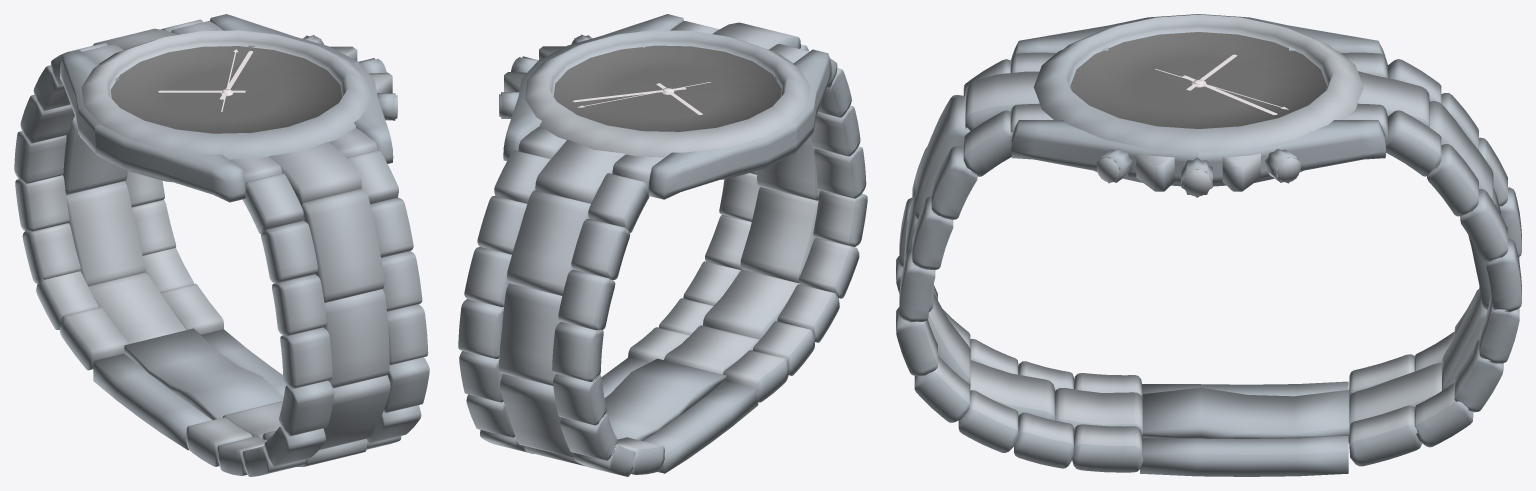
Rendered from watch3.fbx.
The picture shows the model from 3 angles, left to right: view 1: azimuth 30°, elevation 25°; view 2: azimuth 150°, elevation 25°; view 3: azimuth 270°, elevation 25°; orthographic projection. The views are drawn at different scales.
Parts seen in each view (by area): view 1: watch3; view 2: watch3; view 3: watch3.
Boxes of the visible parts, bbox=[...] form: watch3: bbox=[14, 14, 429, 476]; watch3: bbox=[458, 14, 867, 476]; watch3: bbox=[896, 14, 1521, 476].
Bounding box in the file's own units: 28.82 × 32.46 × 49.74.
Materials: 1 (1 with a texture image).
